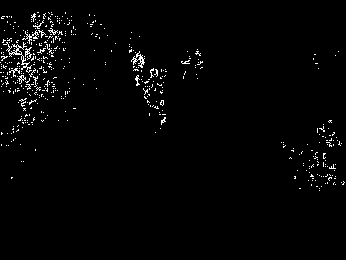person: (143, 67, 169, 128)
